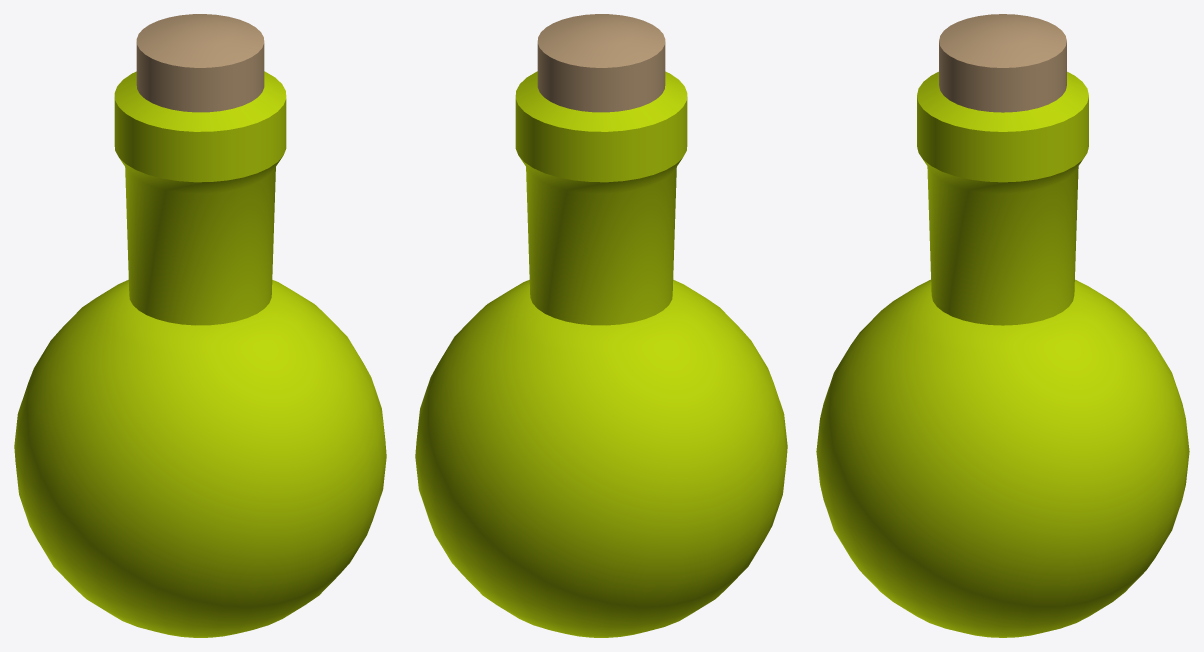
The model's file is SpeedPotion1.fbx.
3 views of the same model, side by side, from view 1: azimuth 30°, elevation 25°; view 2: azimuth 150°, elevation 25°; view 3: azimuth 270°, elevation 25° (orthographic).
Visible parts, largest first — view 1: Sphere; view 2: Sphere; view 3: Sphere.
Boxes of the visible parts, x1,y1,x2,y2 form: Sphere: (14,14,386,637); Sphere: (415,14,787,637); Sphere: (816,14,1189,637).
Bounding box in the file's own units: 17.82 × 31.15 × 17.82.
